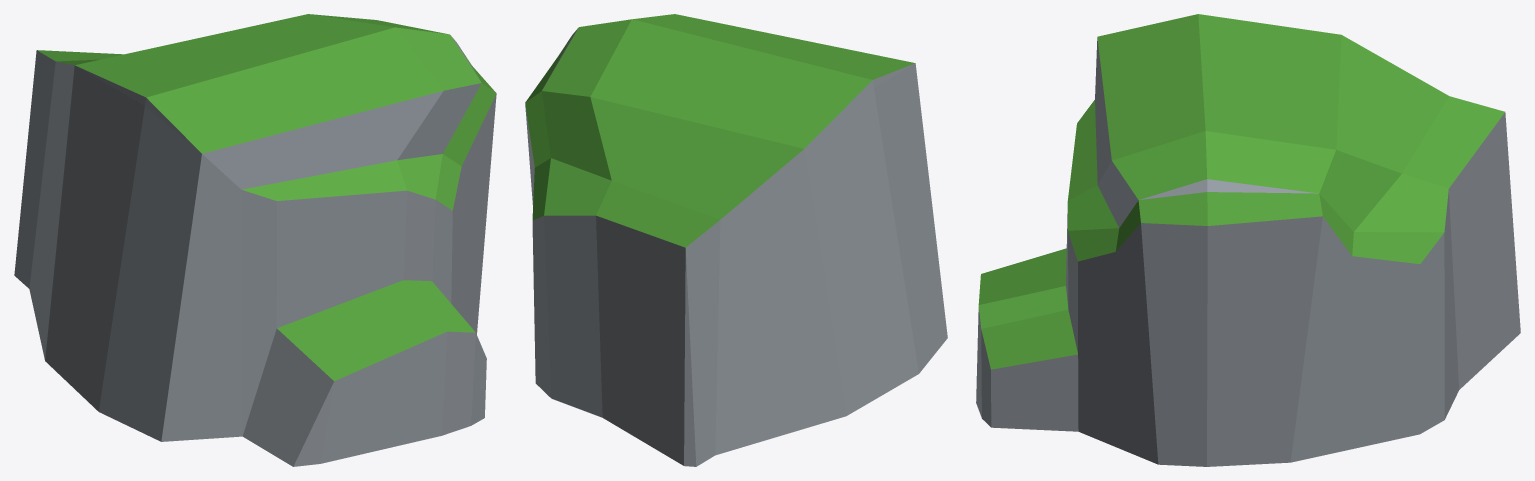
The model's file is mossy-rock-big.glb.
3 views of the same model, side by side, from view 1: azimuth 30°, elevation 25°; view 2: azimuth 150°, elevation 25°; view 3: azimuth 270°, elevation 25° (orthographic). The views are drawn at different scales.
Visible parts, largest first — view 1: Rock_Moss_6; view 2: Rock_Moss_6; view 3: Rock_Moss_6.
Boxes of the visible parts, x1=… form: Rock_Moss_6: x1=14, y1=14, x2=496, y2=466; Rock_Moss_6: x1=525, y1=14, x2=947, y2=466; Rock_Moss_6: x1=976, y1=14, x2=1520, y2=466.
Bounding box in the file's own units: 1.82 × 1.42 × 2.28.
